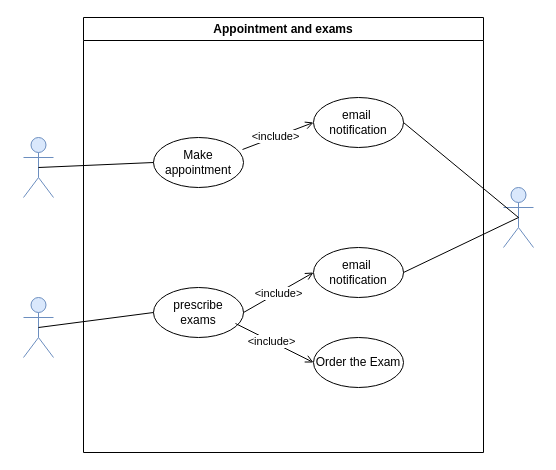
This 556x470 diagram has some shape labels left out. Here are the shapes that lost their labels. From the top down, the centre of each, then its label:
point 38,167: Patients
point 518,217: System
point 38,327: Doctors
